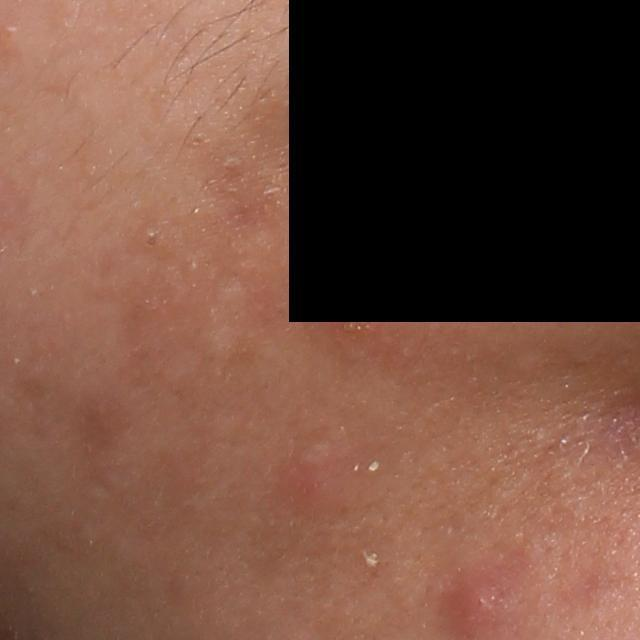papule: (329, 291, 383, 347), (450, 575, 499, 635)
pustule: (362, 550, 379, 574)
